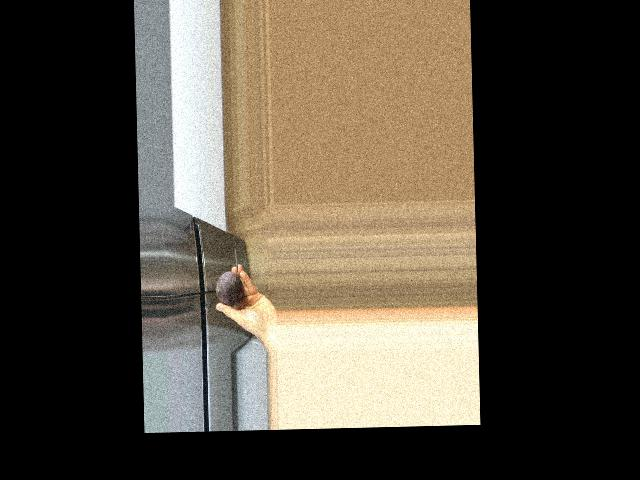beet: (215, 248, 242, 305)
